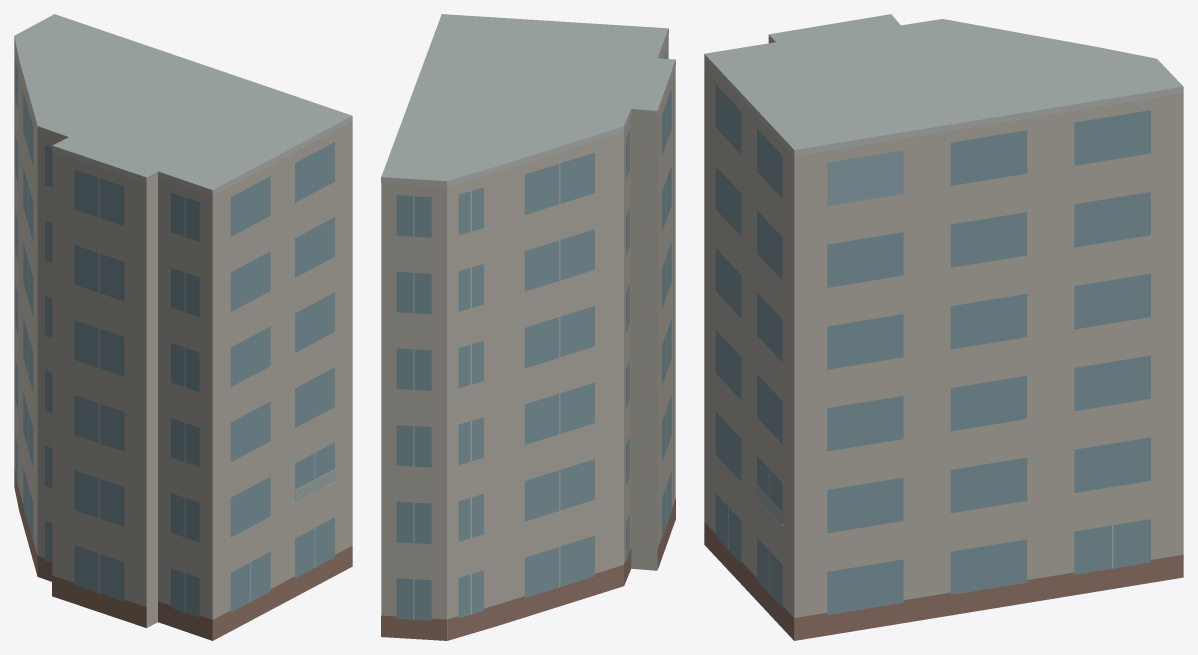
The model's file is survey-upis-33006429.glb.
The picture shows the model from 3 angles, left to right: view 1: azimuth 30°, elevation 25°; view 2: azimuth 150°, elevation 25°; view 3: azimuth 270°, elevation 25°; orthographic projection. The views are drawn at different scales.
Visible parts, largest first — view 1: survey-upis-33006429.tmp; view 2: survey-upis-33006429.tmp; view 3: survey-upis-33006429.tmp.
Part boxes in pixels (left/top/right/bottom): survey-upis-33006429.tmp: left=14, top=14, right=352, bottom=640; survey-upis-33006429.tmp: left=381, top=14, right=675, bottom=640; survey-upis-33006429.tmp: left=704, top=14, right=1183, bottom=640.
Bounding box in the file's own units: 11.32 × 19.04 × 16.86.
